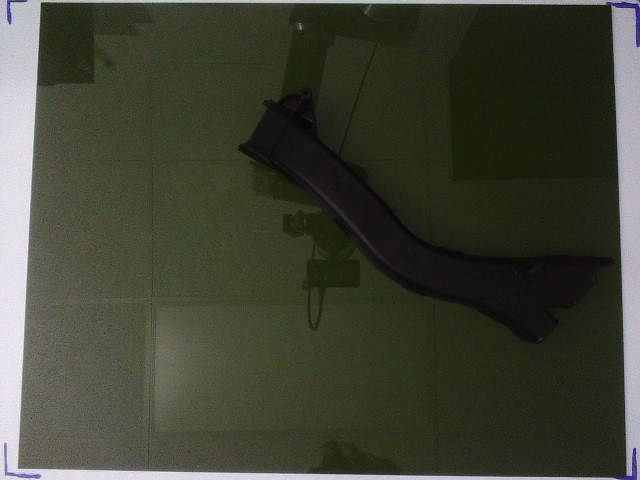887_A-Top: (242, 89, 613, 341)
